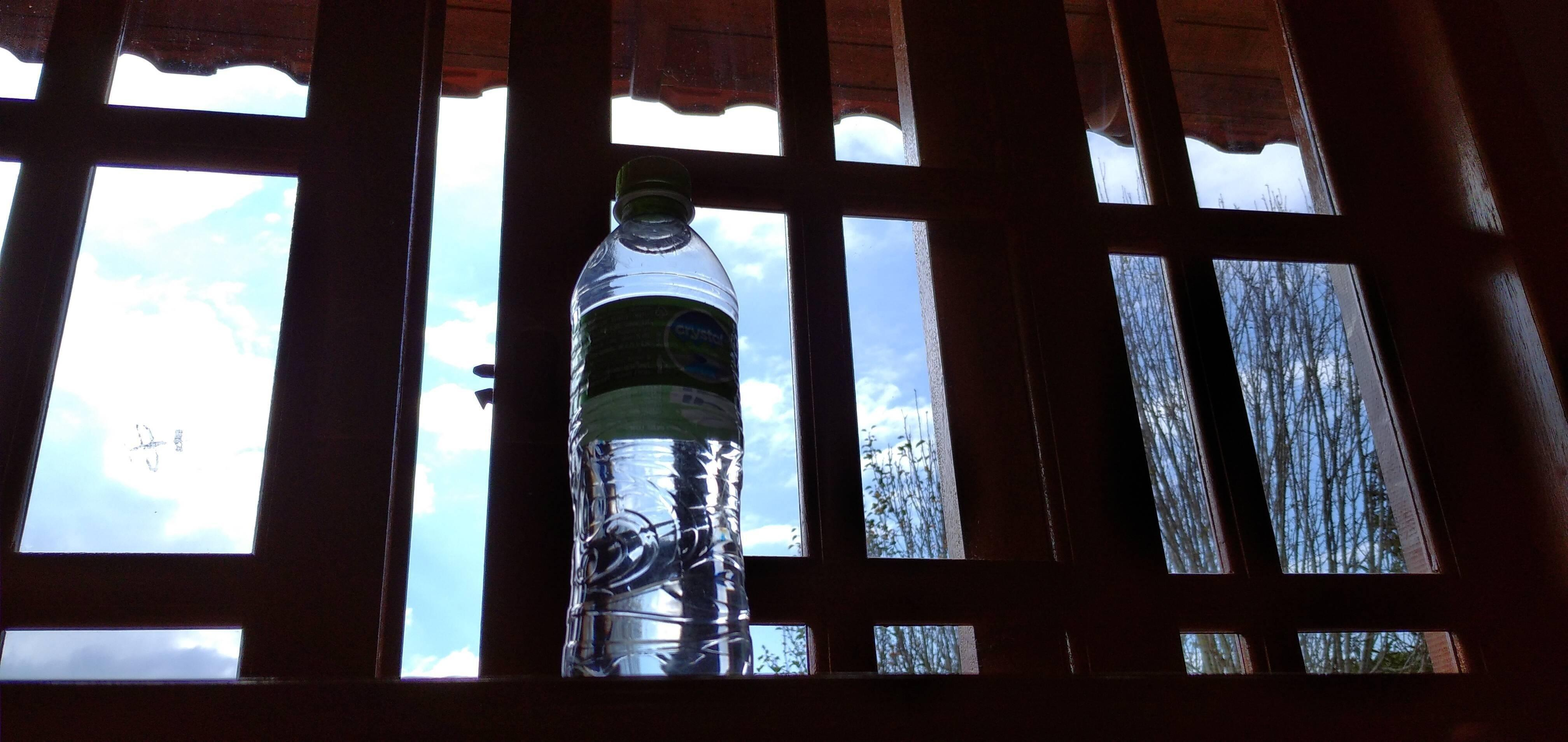bottle-plastic: (566, 158, 757, 682)
